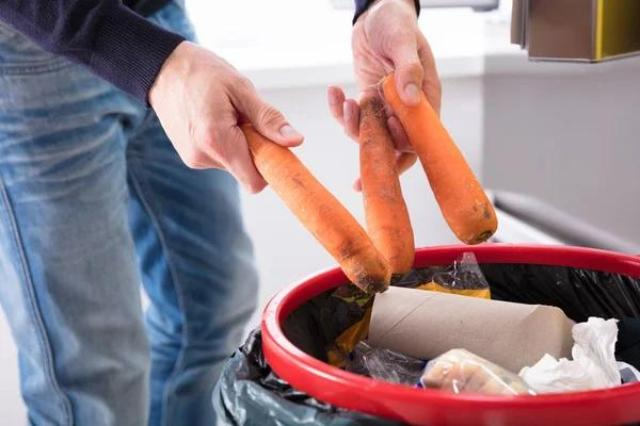Garbage: (283, 253, 640, 400)
contaminated_waste: (363, 337, 425, 388), (412, 256, 491, 293)
